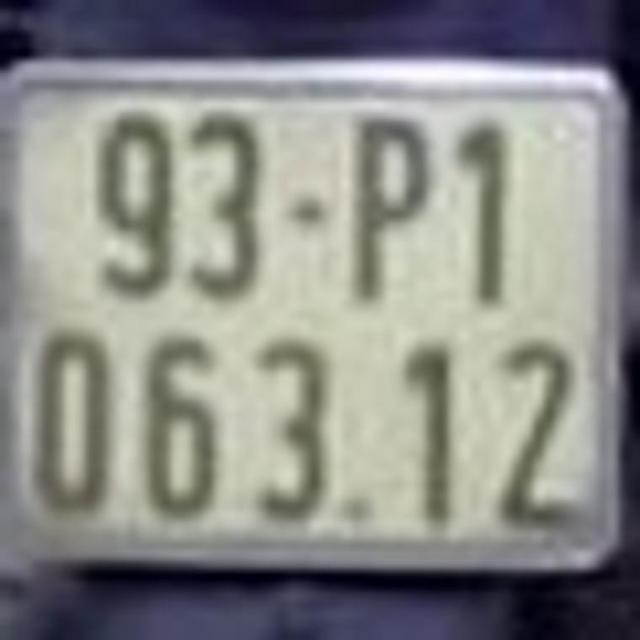0: (32, 325, 112, 516)
1: (452, 109, 518, 308), (401, 335, 460, 524)
2: (497, 332, 581, 529)
3: (186, 106, 262, 301), (253, 332, 328, 522)
6: (145, 328, 218, 520)
9: (94, 107, 175, 299)
P: (345, 106, 434, 307)
